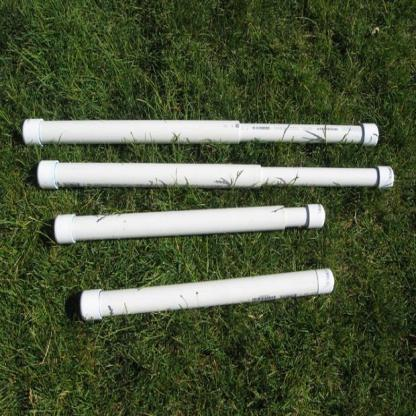PVC: (80, 268, 333, 322), (54, 203, 325, 244), (22, 118, 380, 148), (37, 160, 395, 190)
